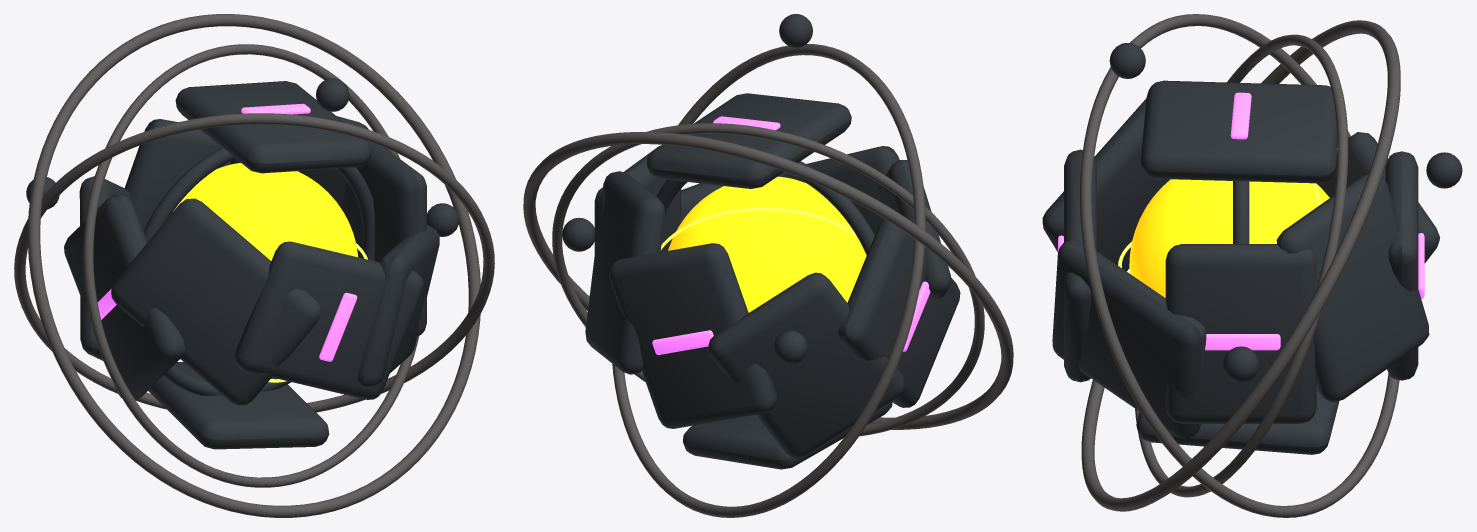
File: compute-cell.glb
The picture shows the model from 3 angles, left to right: view 1: azimuth 30°, elevation 25°; view 2: azimuth 150°, elevation 25°; view 3: azimuth 270°, elevation 25°; orthographic projection. The views are drawn at different scales.
Visible parts, largest first — view 1: Shell_06, OrbitRing_C, Shell_07, OrbitRing_B, OrbitRing_A, Shell_09, EnergyCore, Shell_05, Shell_10, Shell_01, Shell_08, Shell_03 (+7 smaller); view 2: Shell_03, Shell_04, EnergyCore, OrbitRing_B, OrbitRing_C, Shell_05, Shell_09, Shell_02, OrbitRing_A, Shell_10, Shell_07, Shell_06 (+8 smaller); view 3: Shell_01, Shell_09, Shell_02, Shell_08, OrbitRing_C, OrbitRing_B, EnergyCore, Shell_06, OrbitRing_A, Shell_03, Shell_07, Shell_10 (+7 smaller).
Part boxes in pixels (x1=…): Shell_06: x1=111, y1=198, x2=321, y2=405; OrbitRing_C: x1=28, y1=14, x2=480, y2=517; Shell_07: x1=234, y1=241, x2=423, y2=399; OrbitRing_B: x1=14, y1=113, x2=494, y2=412; OrbitRing_A: x1=83, y1=44, x2=418, y2=487; Shell_09: x1=175, y1=81, x2=371, y2=173; EnergyCore: x1=173, y1=163, x2=357, y2=260; Shell_05: x1=64, y1=194, x2=185, y2=399; Shell_10: x1=148, y1=362, x2=329, y2=449; Shell_01: x1=342, y1=141, x2=426, y2=336; Shell_08: x1=358, y1=225, x2=439, y2=386; Shell_03: x1=125, y1=119, x2=230, y2=230; Shell_03: x1=609, y1=243, x2=777, y2=428; Shell_04: x1=708, y1=272, x2=904, y2=458; EnergyCore: x1=668, y1=176, x2=866, y2=312; OrbitRing_B: x1=612, y1=44, x2=925, y2=517; OrbitRing_C: x1=523, y1=132, x2=1013, y2=429; Shell_05: x1=838, y1=219, x2=960, y2=407; Shell_09: x1=646, y1=93, x2=851, y2=188; Shell_02: x1=585, y1=171, x2=664, y2=374; OrbitRing_A: x1=552, y1=123, x2=984, y2=436; Shell_10: x1=683, y1=401, x2=892, y2=469; Shell_07: x1=782, y1=146, x2=899, y2=234; Shell_06: x1=877, y1=160, x2=951, y2=298; Shell_01: x1=1165, y1=244, x2=1316, y2=423; Shell_09: x1=1140, y1=80, x2=1337, y2=183; Shell_02: x1=1276, y1=173, x2=1429, y2=402; Shell_08: x1=1052, y1=239, x2=1206, y2=439; OrbitRing_C: x1=1081, y1=20, x2=1400, y2=511; OrbitRing_B: x1=1080, y1=14, x2=1399, y2=517; EnergyCore: x1=1129, y1=179, x2=1329, y2=297; Shell_06: x1=1042, y1=98, x2=1169, y2=271; OrbitRing_A: x1=1135, y1=34, x2=1348, y2=497; Shell_03: x1=1385, y1=151, x2=1418, y2=380; Shell_07: x1=1064, y1=149, x2=1096, y2=382; Shell_10: x1=1136, y1=385, x2=1339, y2=454.
Size of the model in its own units: 3.51 by 3.12 by 2.67.
